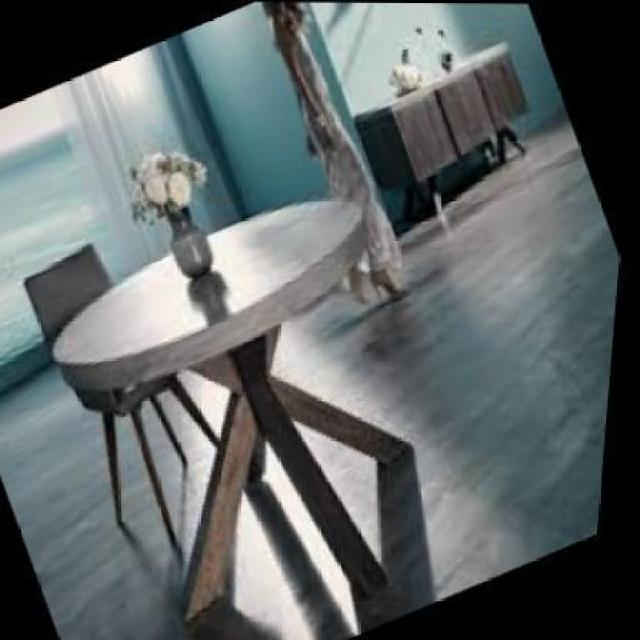tables: (50, 196, 392, 624), (352, 42, 528, 226)
